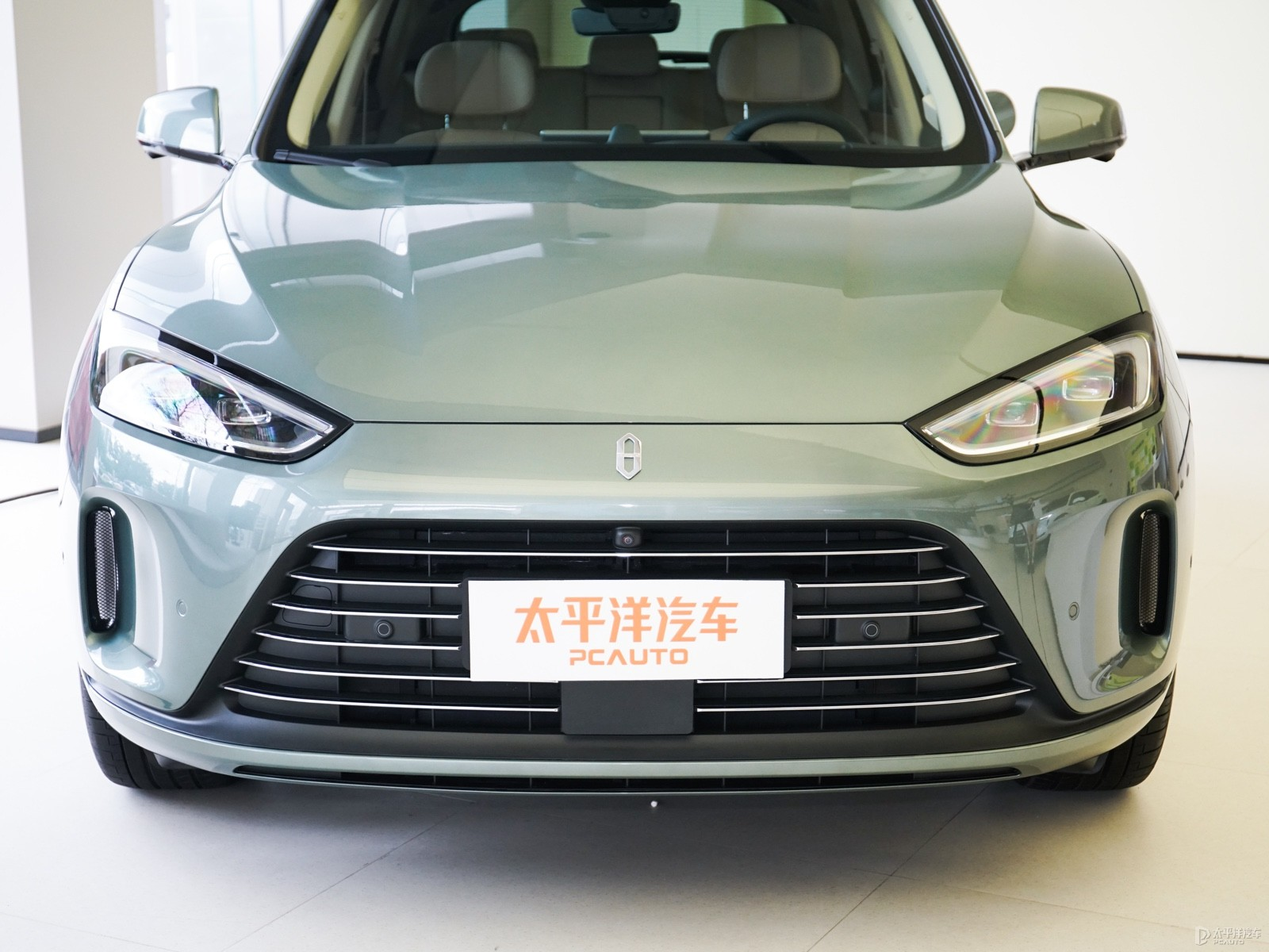AITO: (616, 434, 642, 479)
